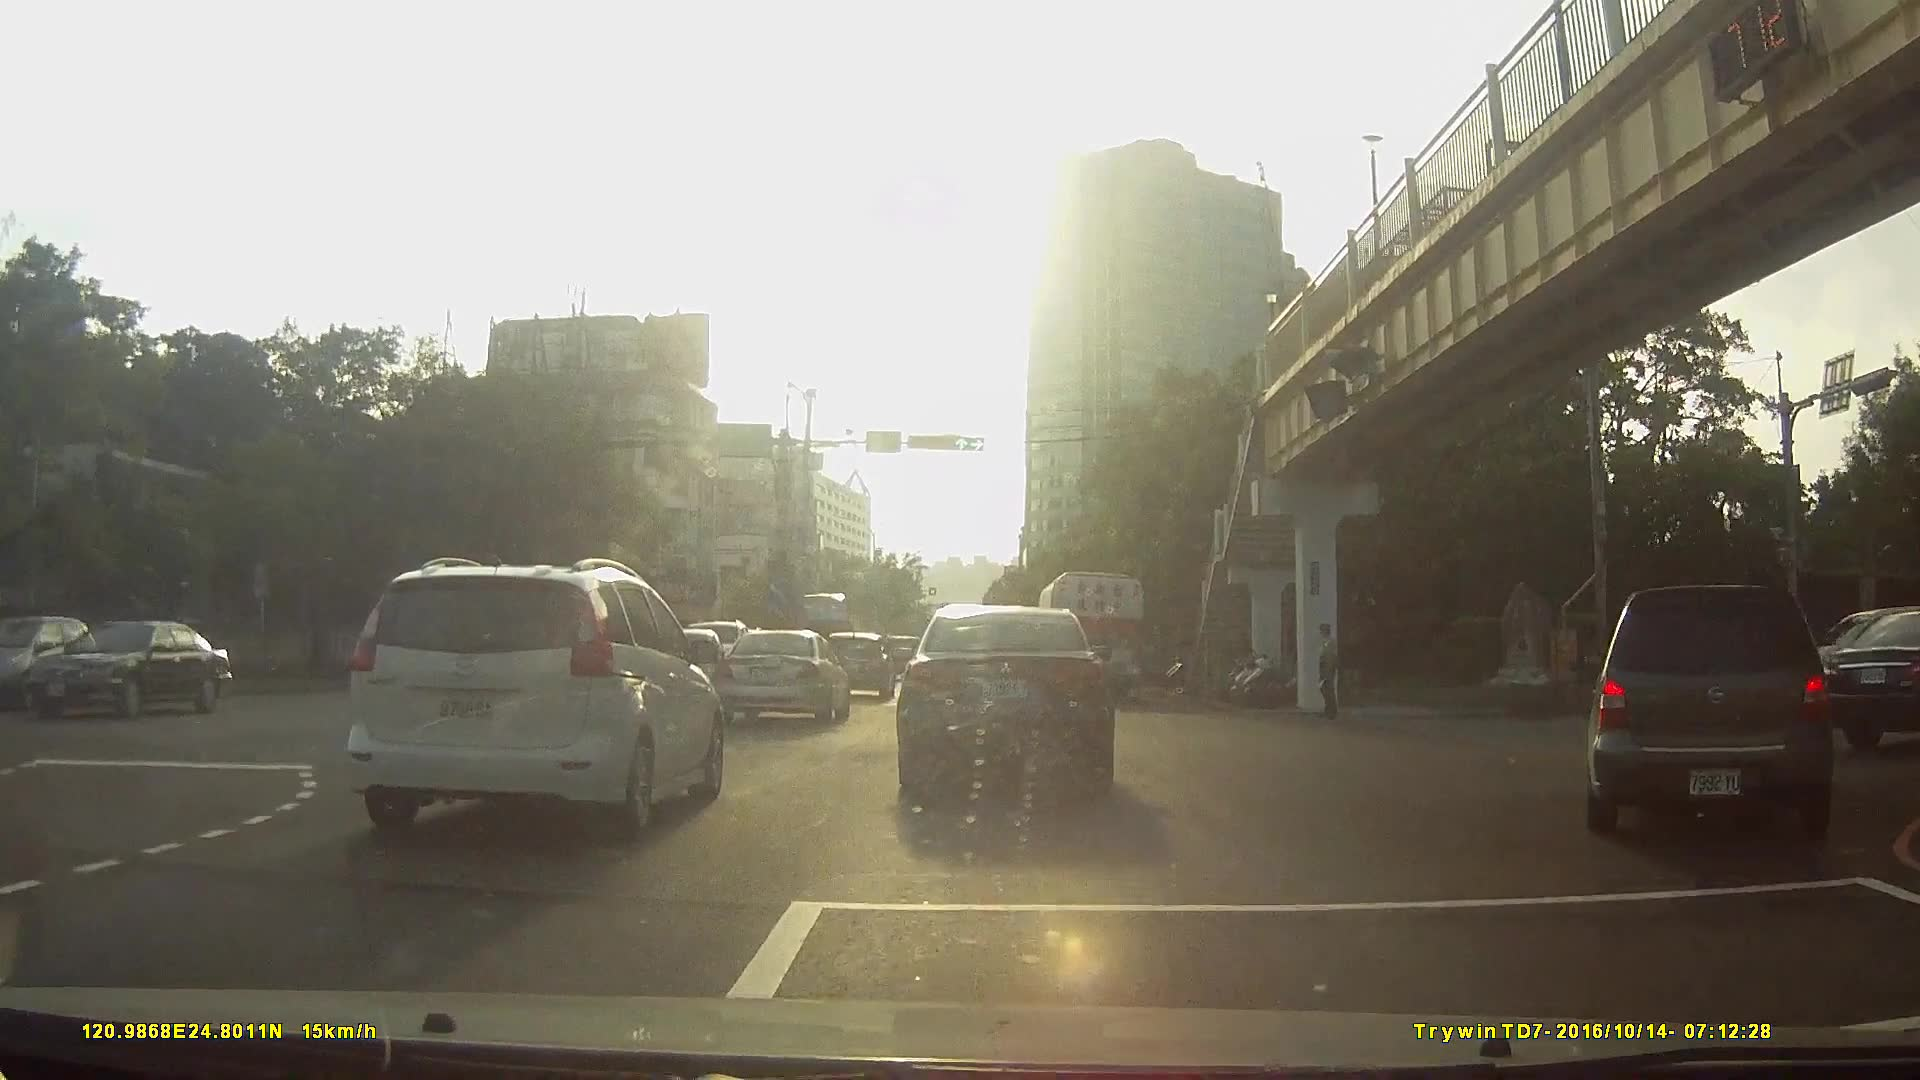pedestrian: (1310, 617, 1349, 722)
vehicle: (342, 551, 722, 836), (1569, 577, 1849, 838), (894, 601, 1112, 804), (27, 619, 246, 726), (1815, 603, 1920, 747), (1035, 571, 1145, 708), (712, 628, 852, 726), (1, 623, 103, 715), (30, 614, 111, 699), (819, 628, 895, 699)
